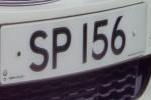1: (77, 16, 93, 68)
5: (89, 15, 111, 66)
6: (108, 12, 129, 60)
P: (48, 19, 75, 73)
S: (25, 21, 52, 77)
